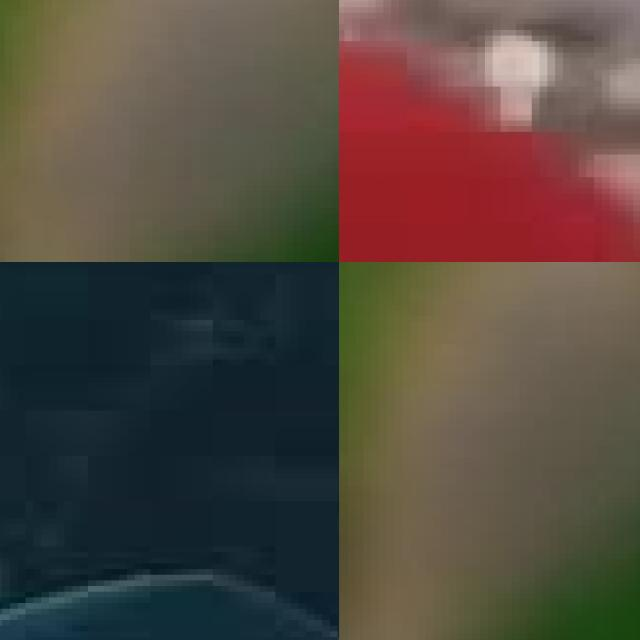fish: (339, 262, 640, 640), (0, 0, 339, 262)
